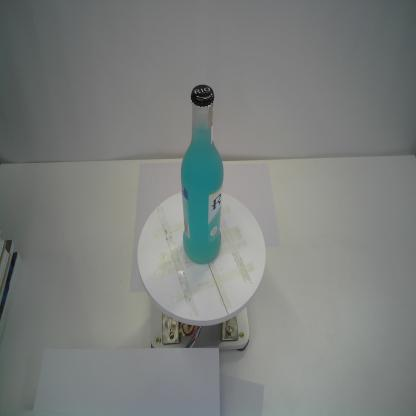Alcohol: (180, 84, 225, 266)
